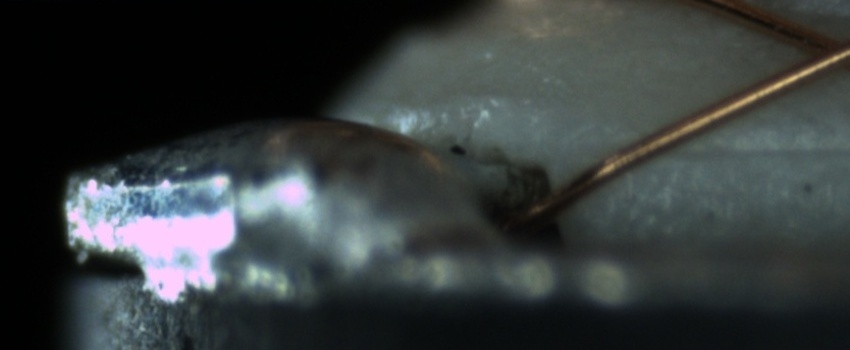CL: (775, 12, 849, 84)
DL: (644, 119, 848, 183)
